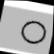no answer: (16, 18, 49, 46)
